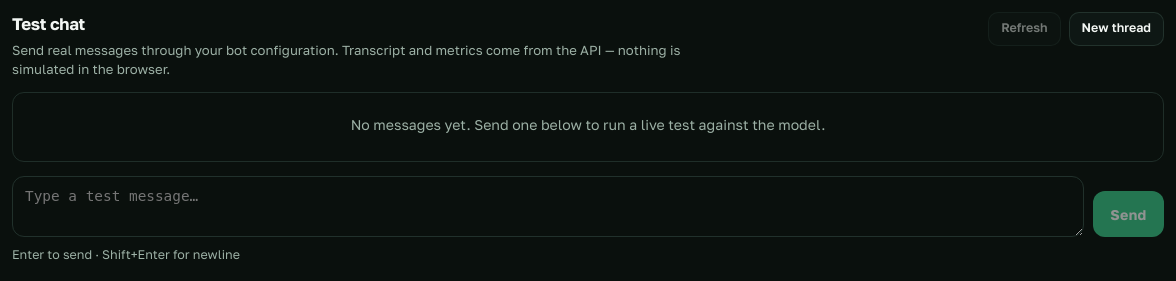
Test case: BotTestChatPanel › renders test chat chrome without assuming prior messages
The image size is (1176, 281).
Check: the heading "Test chat" is shown, box [12, 14, 85, 34]
Check: the element with test id "chat-message-list-empty" is shown, box [12, 92, 1164, 162]
Step 1. Type "x" into the text box named "Test chat message" → (548, 206), box [12, 176, 1084, 237]
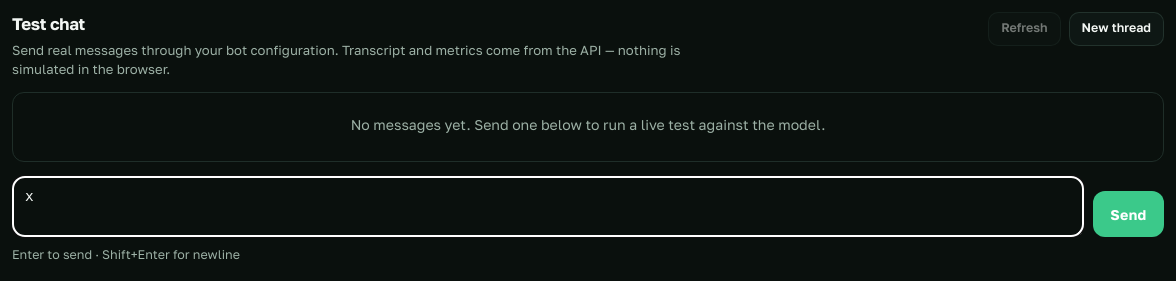
Check: the button with test id "chat-composer-send" is enabled, box [1093, 191, 1164, 237]
